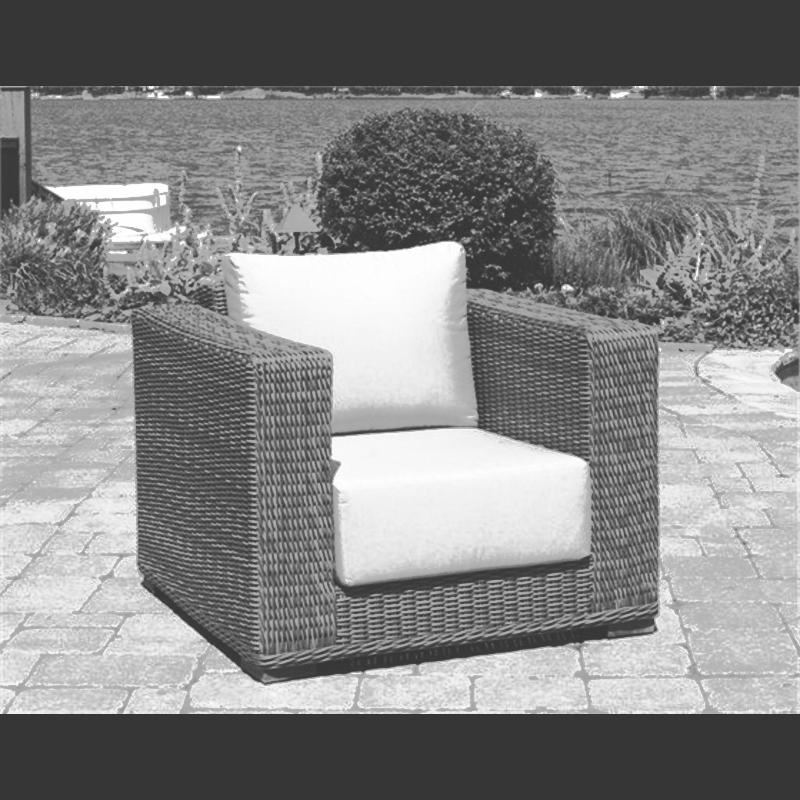pillow: (248, 257, 480, 405)
